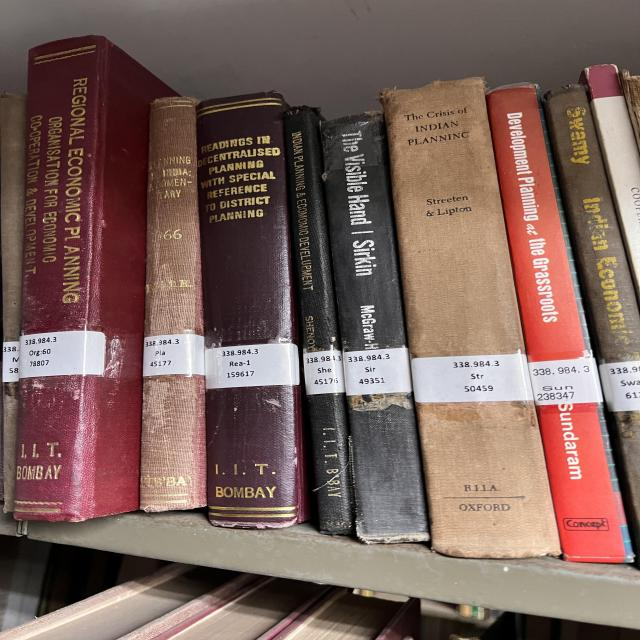Book: (382, 78, 560, 558), (13, 36, 175, 521), (487, 85, 632, 562), (197, 92, 308, 529), (322, 111, 428, 542), (283, 106, 355, 535), (140, 98, 207, 511)
Label: (412, 351, 533, 402), (205, 344, 300, 389), (18, 330, 105, 379), (528, 358, 602, 405), (343, 348, 412, 396), (143, 334, 205, 376), (303, 350, 345, 395)
